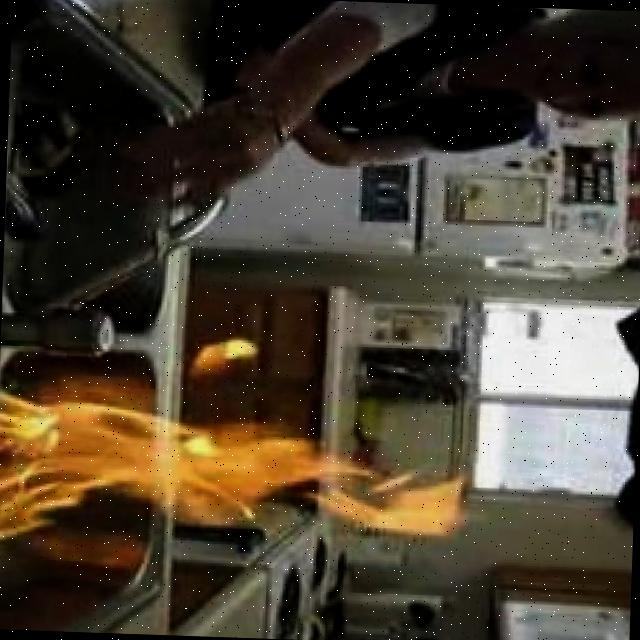fire: (0, 388, 458, 543), (180, 334, 257, 374)
